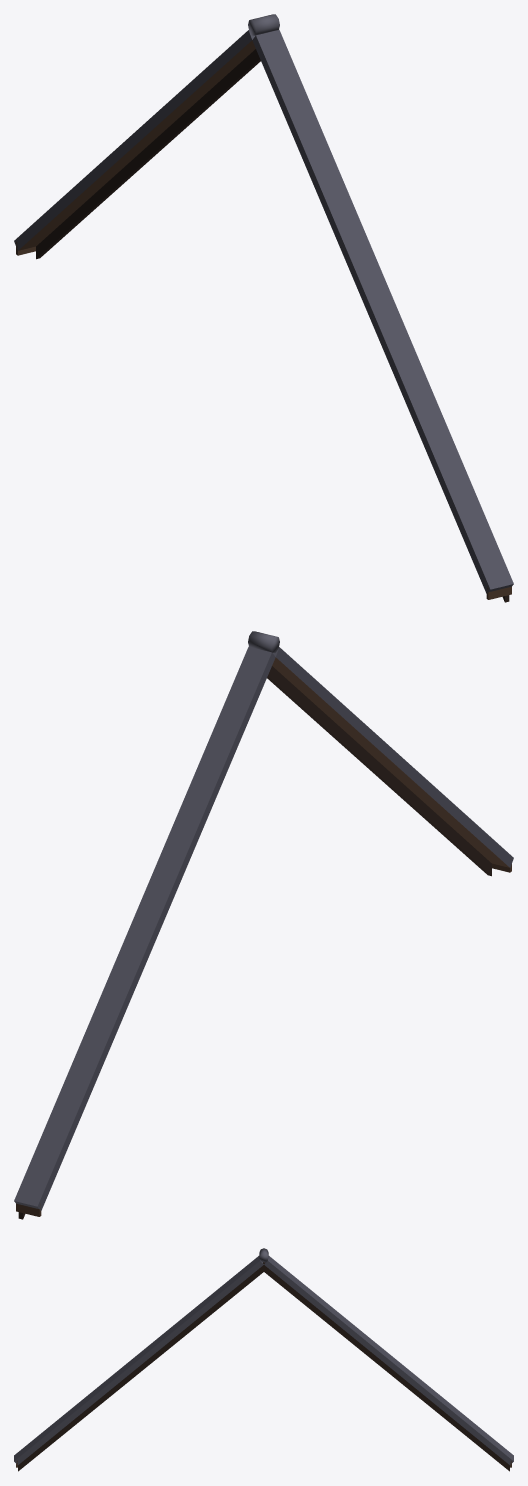
Rendered from kit_timber_slate_w7_end.glb.
3 views of the same model, one above another, from view 1: azimuth 30°, elevation 25°; view 2: azimuth 150°, elevation 25°; view 3: azimuth 270°, elevation 25° (orthographic). The views are drawn at different scales.
Parts seen in each view (by area): view 1: kit_timber_slate_w7_end; view 2: kit_timber_slate_w7_end; view 3: kit_timber_slate_w7_end.
Part boxes in pixels (<box>): kit_timber_slate_w7_end: <box>14,14,513,602</box>; kit_timber_slate_w7_end: <box>14,631,513,1219</box>; kit_timber_slate_w7_end: <box>14,1248,513,1471</box>.
Bounding box in the file's own units: 0.22 × 3.71 × 7.72.
